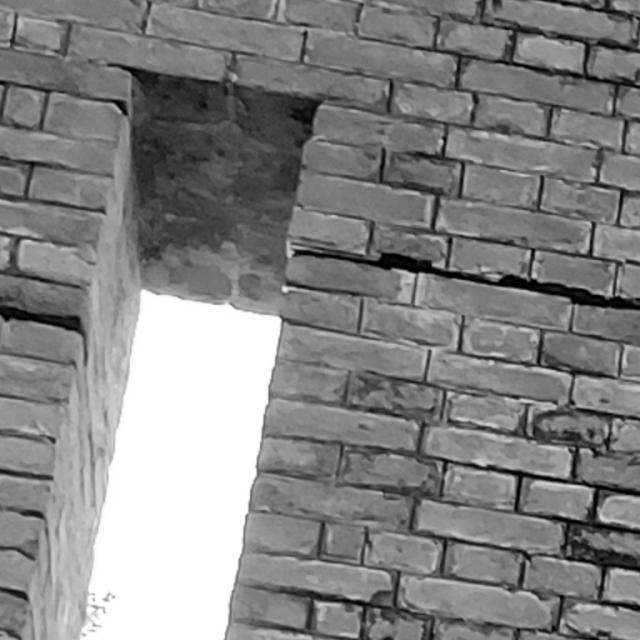crack: (288, 238, 640, 312), (1, 304, 89, 364)
